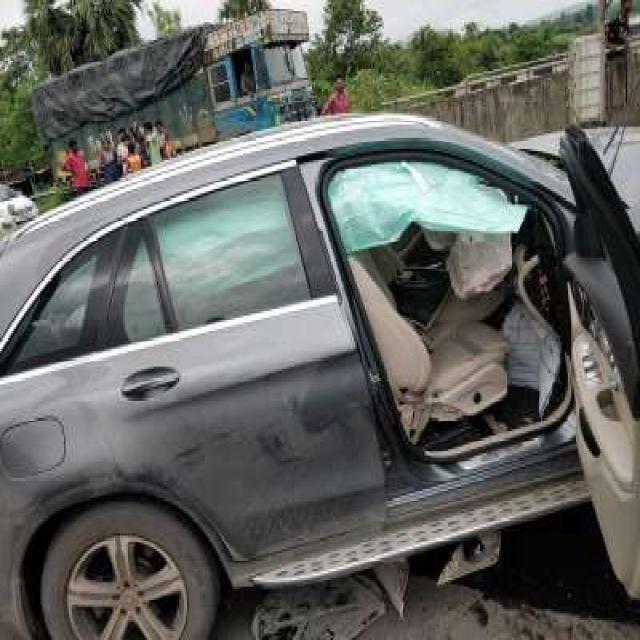accident: (0, 118, 640, 636)
